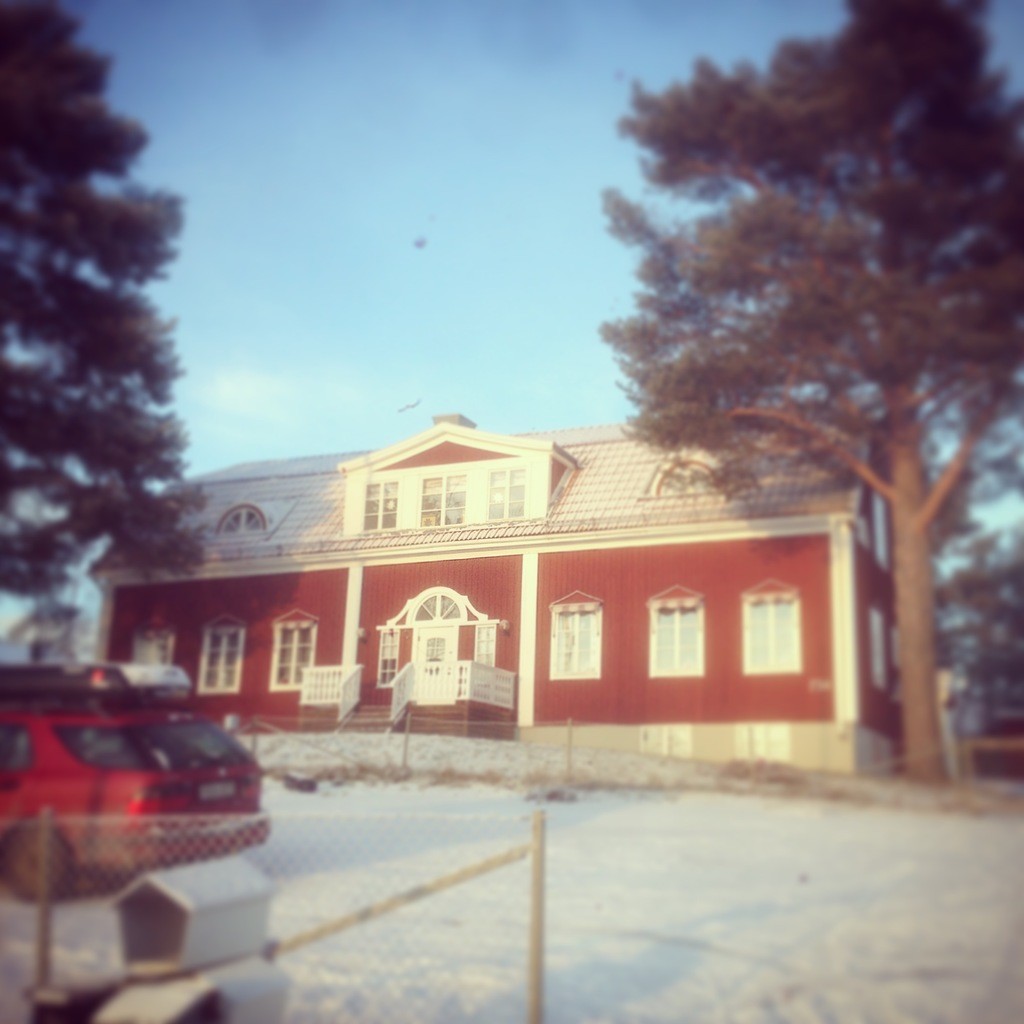mobil: (1, 685, 318, 861)
